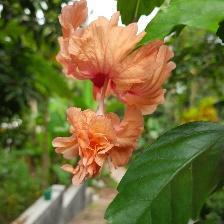hibiscus: (54, 2, 176, 184)
